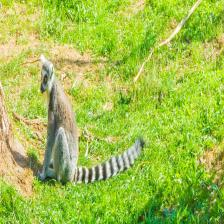monkey: (36, 51, 88, 199)
